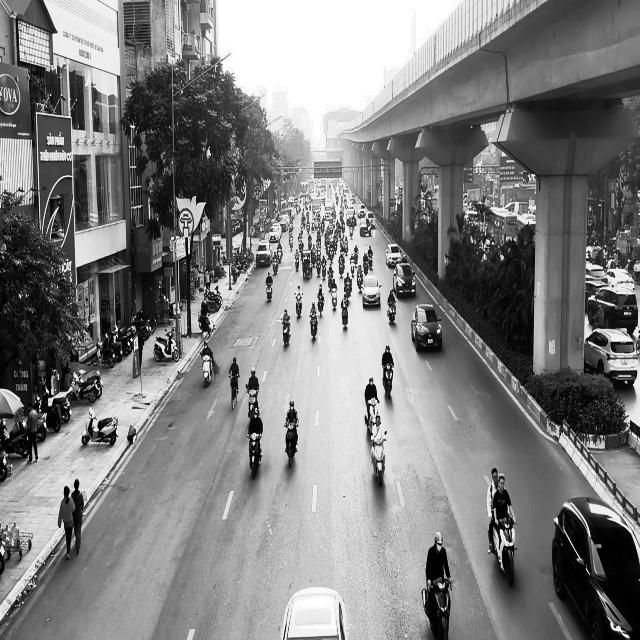car: (551, 496, 640, 639), (280, 586, 350, 639), (583, 327, 638, 386), (411, 304, 442, 352), (394, 262, 416, 298), (362, 275, 382, 308)
motorbike: (421, 571, 453, 639), (489, 516, 516, 587), (81, 406, 118, 446), (370, 430, 387, 486), (153, 328, 179, 362), (246, 432, 262, 479), (284, 420, 298, 468), (364, 398, 379, 434), (200, 352, 214, 388), (245, 384, 259, 418), (382, 363, 393, 398), (229, 374, 239, 410), (281, 318, 291, 347), (310, 313, 318, 341), (294, 292, 302, 318), (387, 300, 396, 323), (341, 302, 348, 328), (266, 280, 272, 300)
